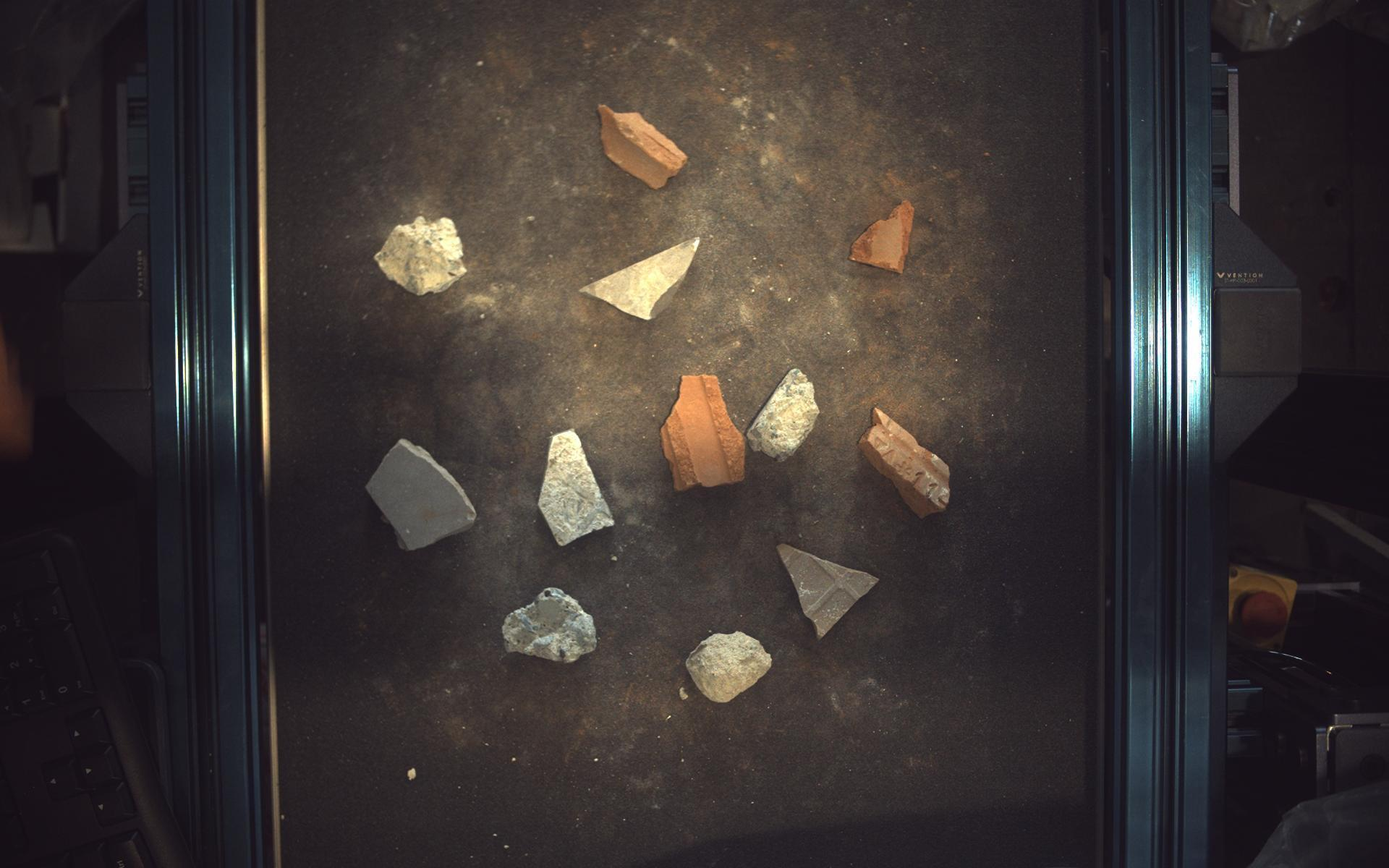brick: (862, 407, 952, 518), (661, 375, 746, 491), (600, 103, 689, 188), (851, 200, 916, 272)
concrete: (374, 215, 467, 295), (503, 588, 598, 663), (747, 368, 820, 461), (687, 633, 773, 704)
tile: (366, 439, 476, 551), (581, 237, 701, 320), (778, 545, 880, 639), (538, 430, 615, 546)
